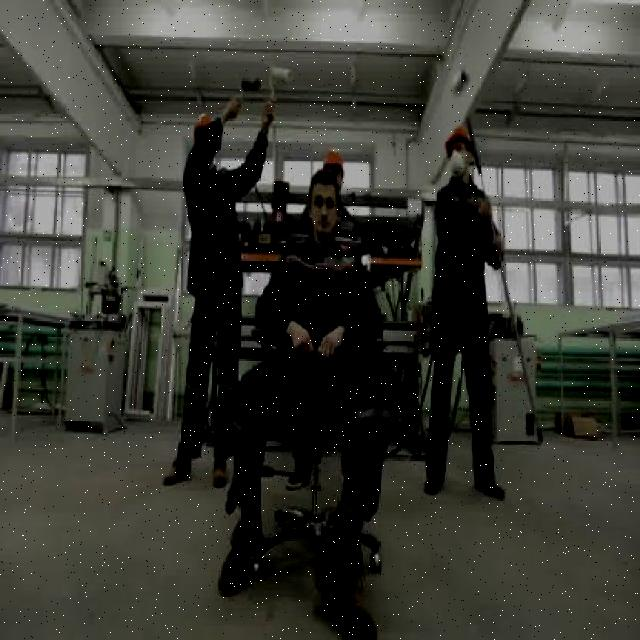Helmet: (442, 127, 476, 158), (192, 108, 217, 136), (323, 148, 345, 172)
Mask: (222, 238, 402, 516), (172, 117, 270, 460), (422, 177, 506, 485)
